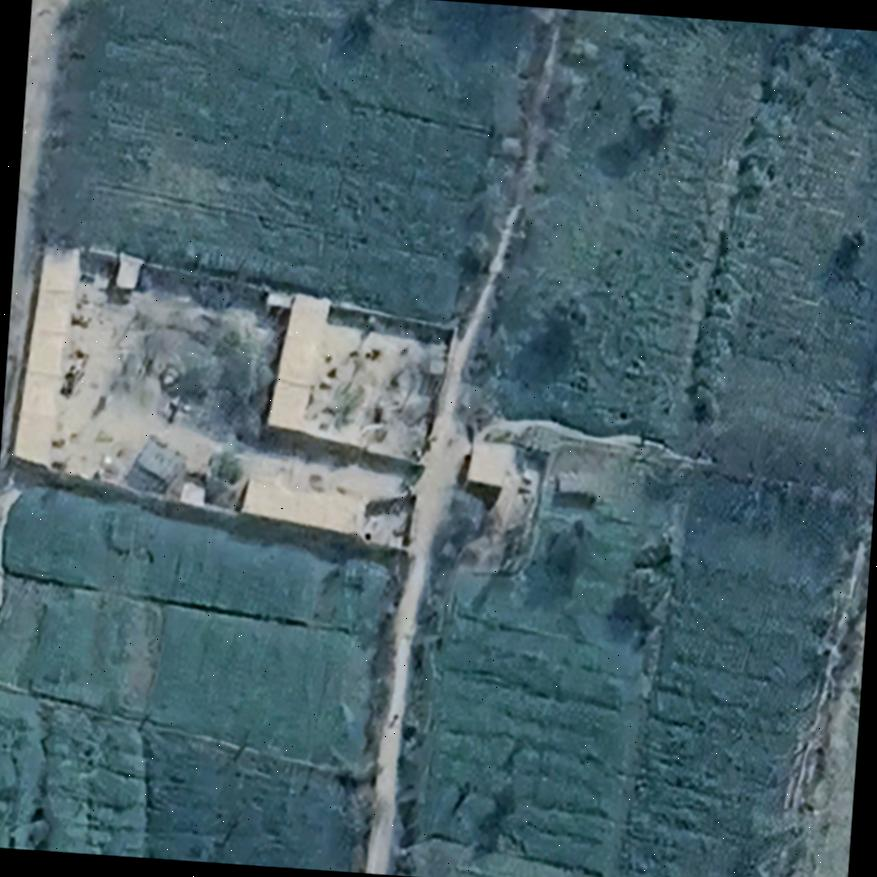Solarpanel: (130, 435, 190, 492), (555, 470, 603, 498)
